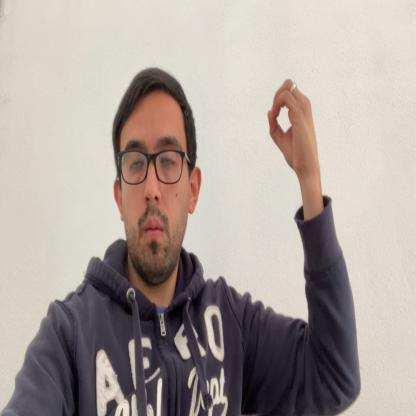O: (267, 77, 315, 174)
